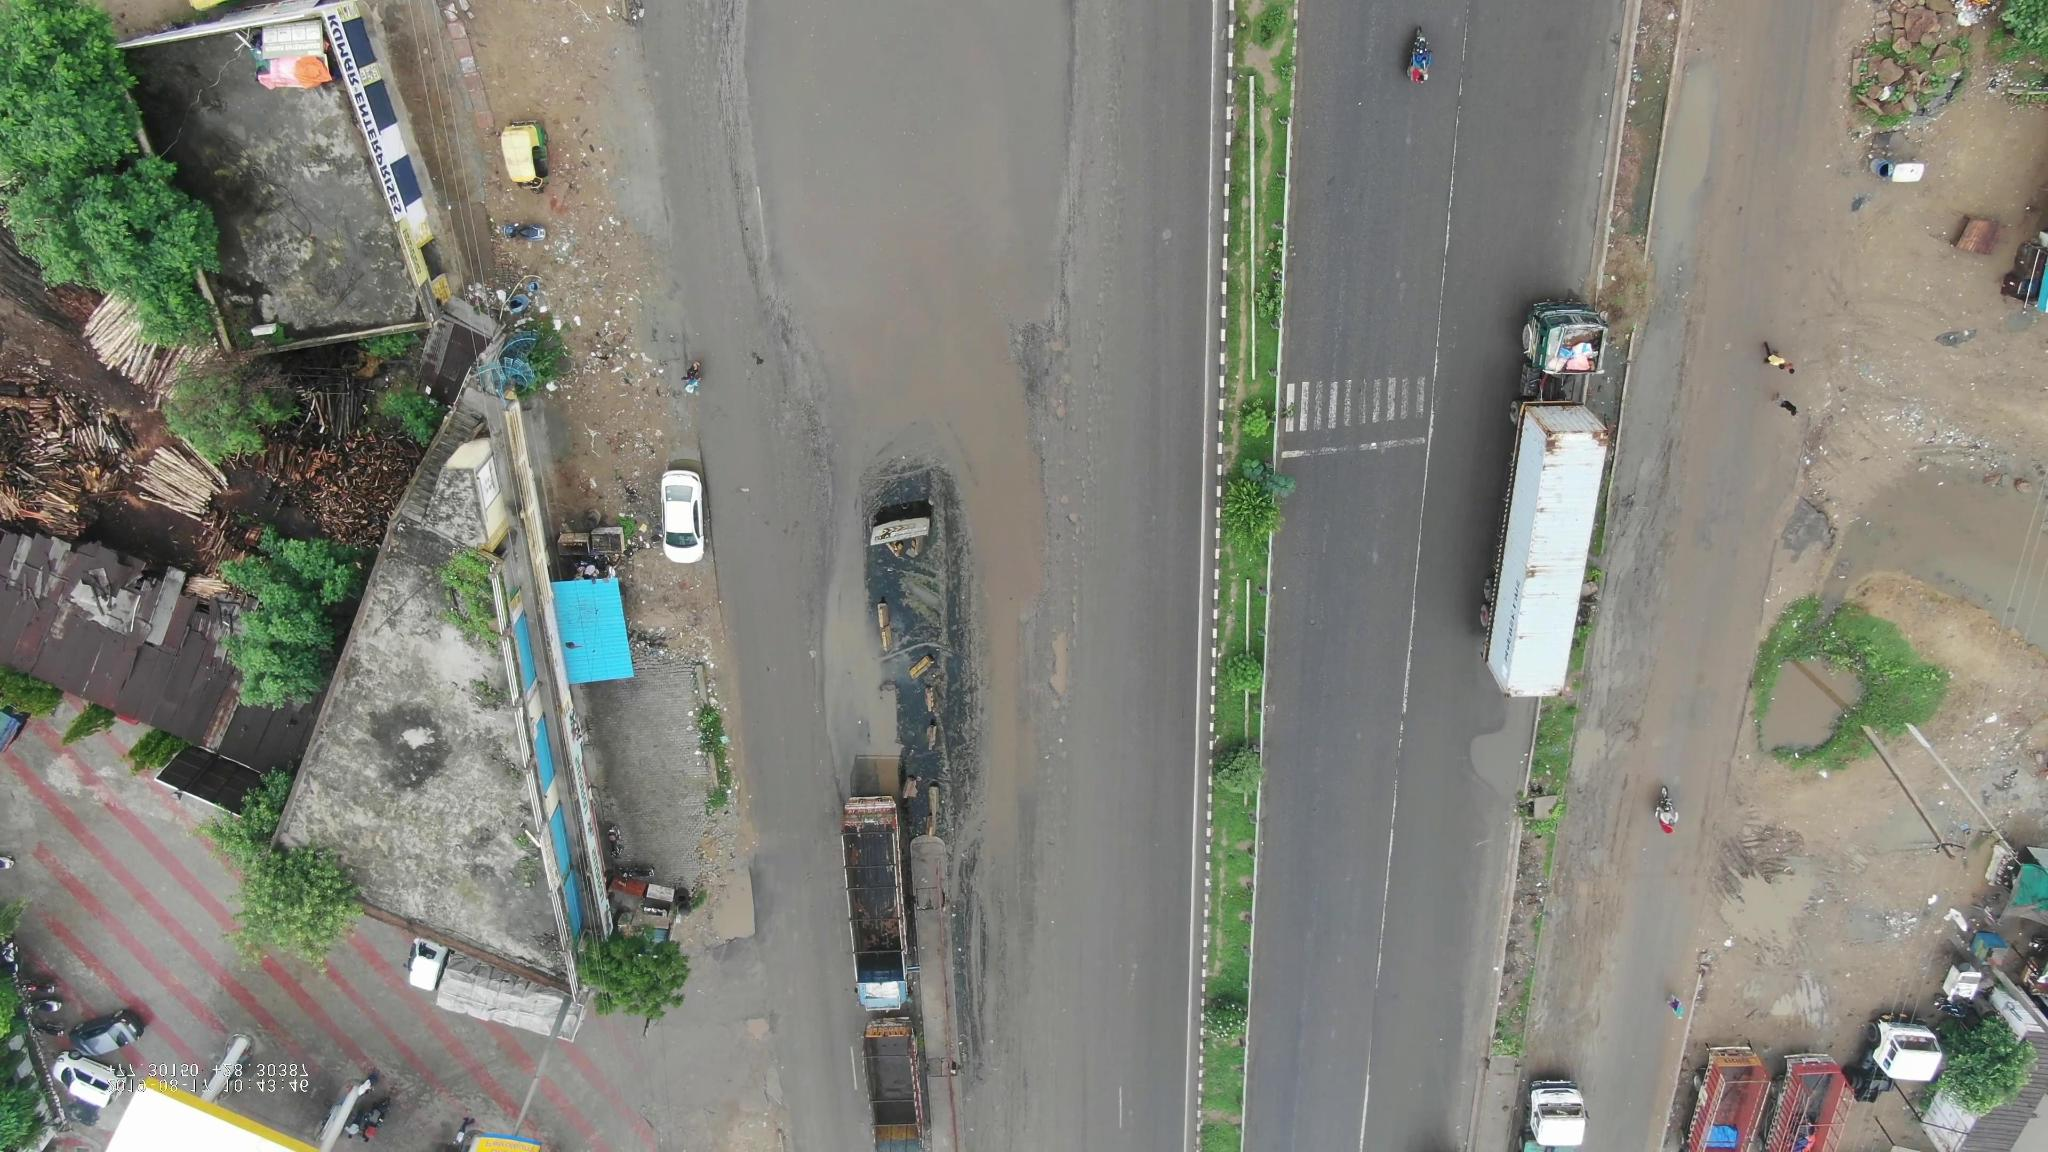Muddy_road: (1549, 738, 1660, 1000), (1604, 447, 1679, 724)
Potholes: (1025, 596, 1087, 850), (1048, 324, 1108, 554), (681, 15, 736, 186), (1099, 27, 1129, 283), (730, 1007, 783, 1061)
Waterlogging: (751, 8, 1051, 594), (1632, 75, 1717, 255), (1452, 706, 1523, 840)
